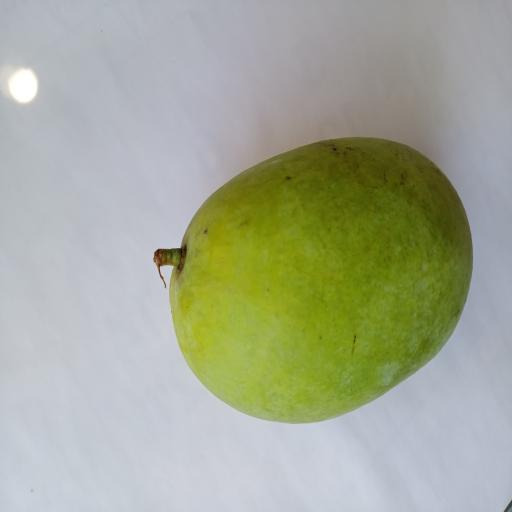mango-unripe: (127, 122, 481, 437)
